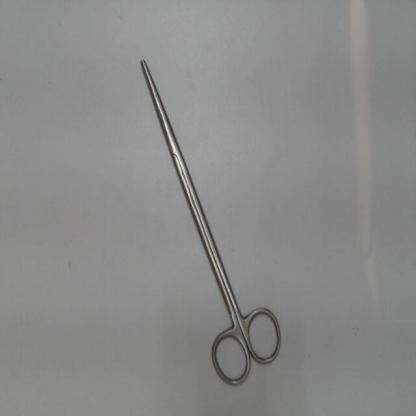9 Metzenbaum Scissors: (136, 51, 288, 395)
